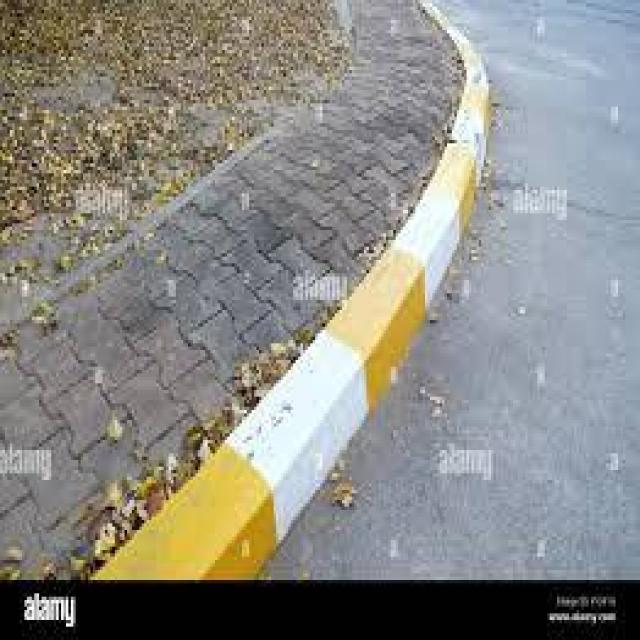bump: (151, 294, 365, 577)
